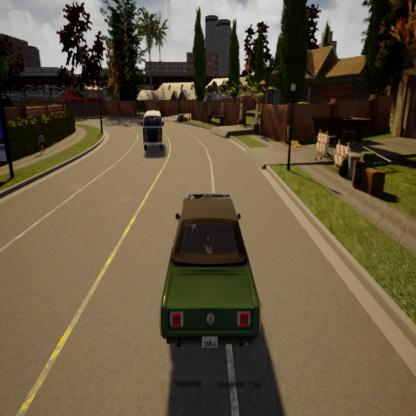Cars: (148, 176, 270, 363), (136, 97, 171, 166)
